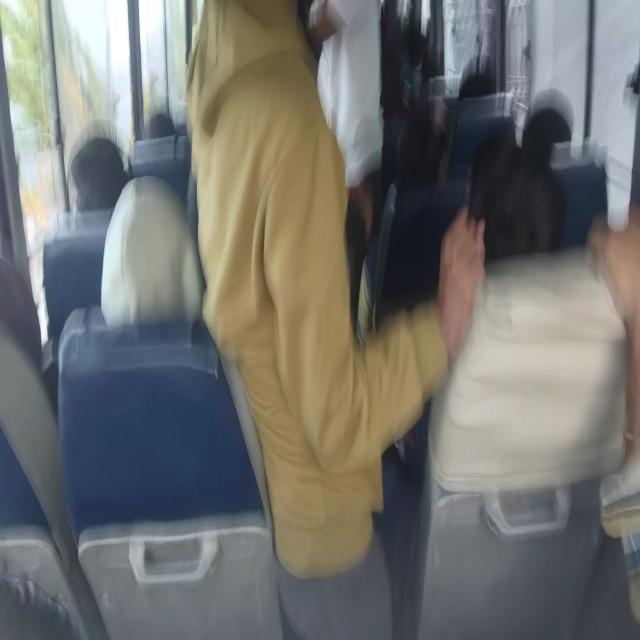person: (291, 0, 388, 193), (185, 0, 304, 146), (100, 177, 202, 328), (466, 178, 559, 307), (41, 213, 116, 342), (132, 109, 186, 211), (68, 134, 129, 214), (0, 255, 42, 368), (452, 110, 516, 176), (526, 102, 577, 154), (145, 112, 177, 140)
